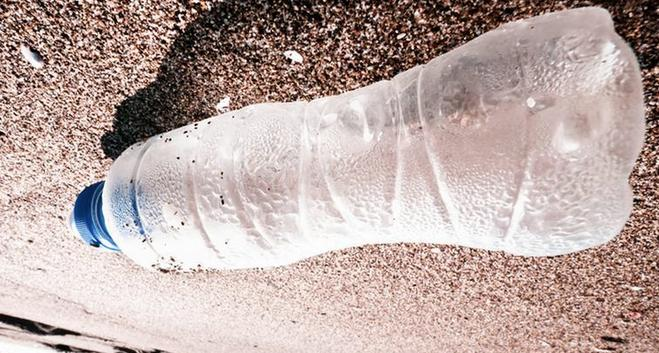Plastic: (58, 0, 648, 277)
